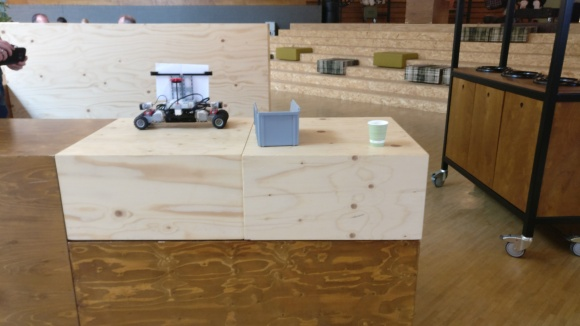cup: (366, 118, 388, 147)
tray: (252, 98, 301, 147)
